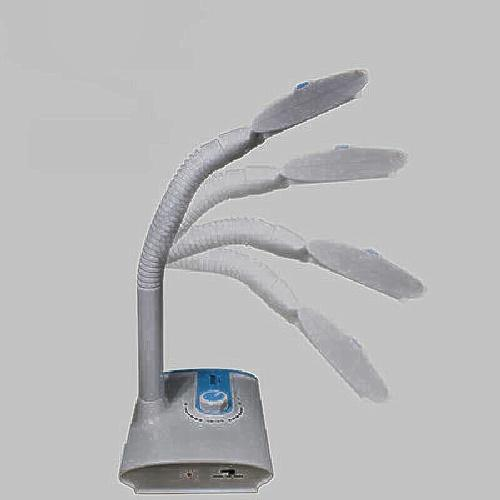lamp: (116, 63, 399, 479)
